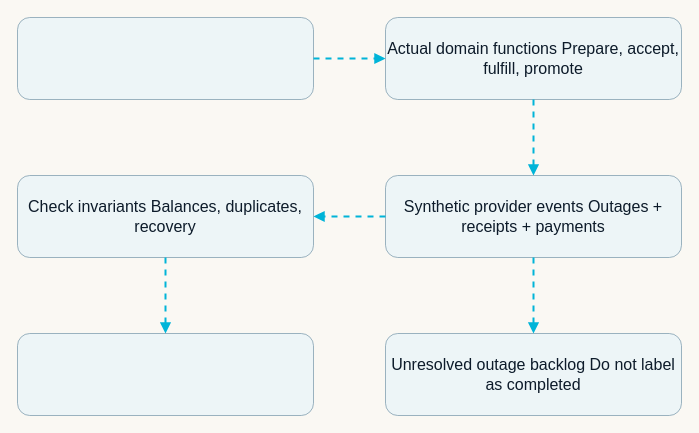
The diagram is 699 pixels wide and 433 high, and some of its shapes have lost their labels. Here are the shapes that lost their labels. From the top down, the centre of each, then its label:
[165,58]: Disposable cohort Seed + accounts + cycle count
[165,374]: Bounded evidence report Digest + sampled histories
